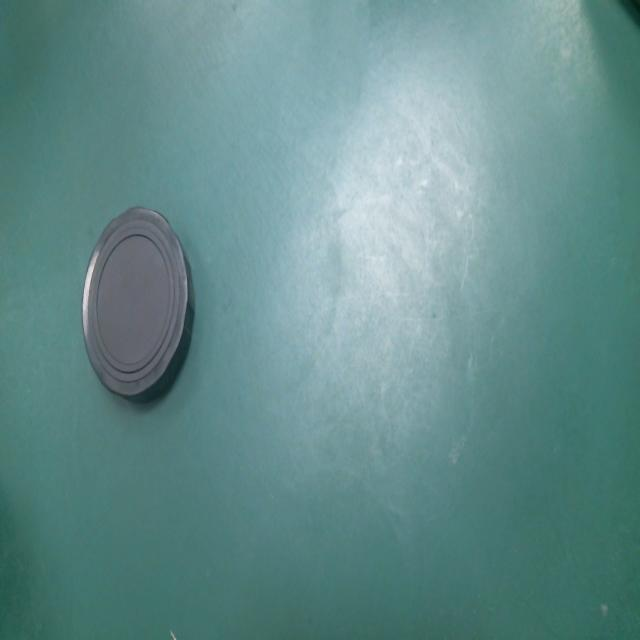cover: (74, 193, 205, 427)
